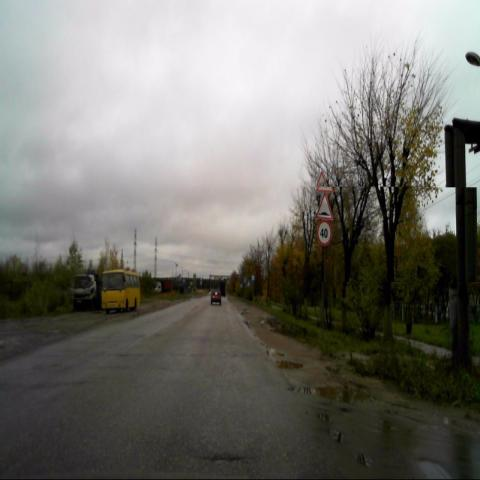1_17: (315, 193, 333, 221)
